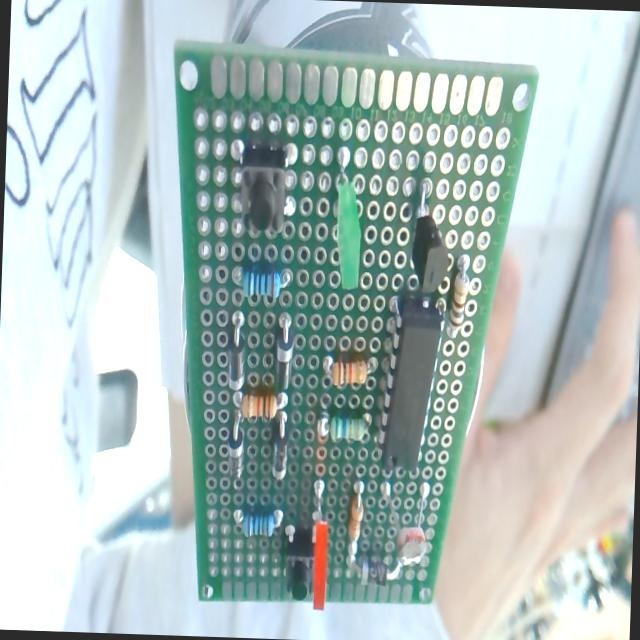IC: (376, 293, 447, 474)
cds: (375, 478, 440, 568)
diode: (219, 409, 249, 491), (224, 308, 252, 391), (270, 308, 297, 390), (268, 412, 294, 489), (348, 555, 400, 589)
led: (324, 156, 367, 302), (311, 470, 338, 614)
resistor: (444, 247, 474, 346), (320, 346, 378, 397), (310, 403, 374, 449), (222, 502, 286, 544), (232, 260, 294, 303), (239, 386, 284, 422), (346, 477, 364, 556)
switch: (237, 144, 289, 234), (282, 526, 316, 599)
transistor: (400, 170, 453, 295)
